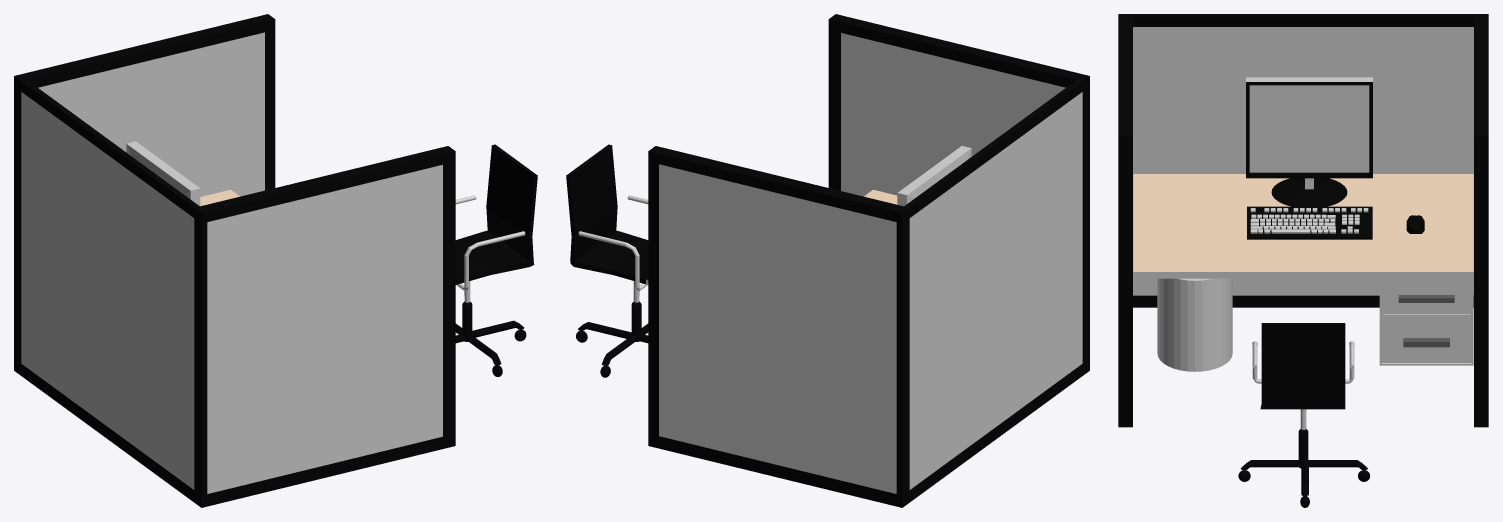
The model's file is office cubical for player.fbx.
3 views of the same model, side by side, from view 1: azimuth 30°, elevation 25°; view 2: azimuth 150°, elevation 25°; view 3: azimuth 270°, elevation 25° (orthographic).
Parts seen in each view (by area): view 1: Sphere.002; view 2: Sphere.002; view 3: Sphere.002.
Part boxes in pixels (<box>): Sphere.002: <box>14,14,537,507</box>; Sphere.002: <box>566,14,1089,507</box>; Sphere.002: <box>1118,14,1488,507</box>.
Size of the model in its own units: 952 by 647 by 738.
